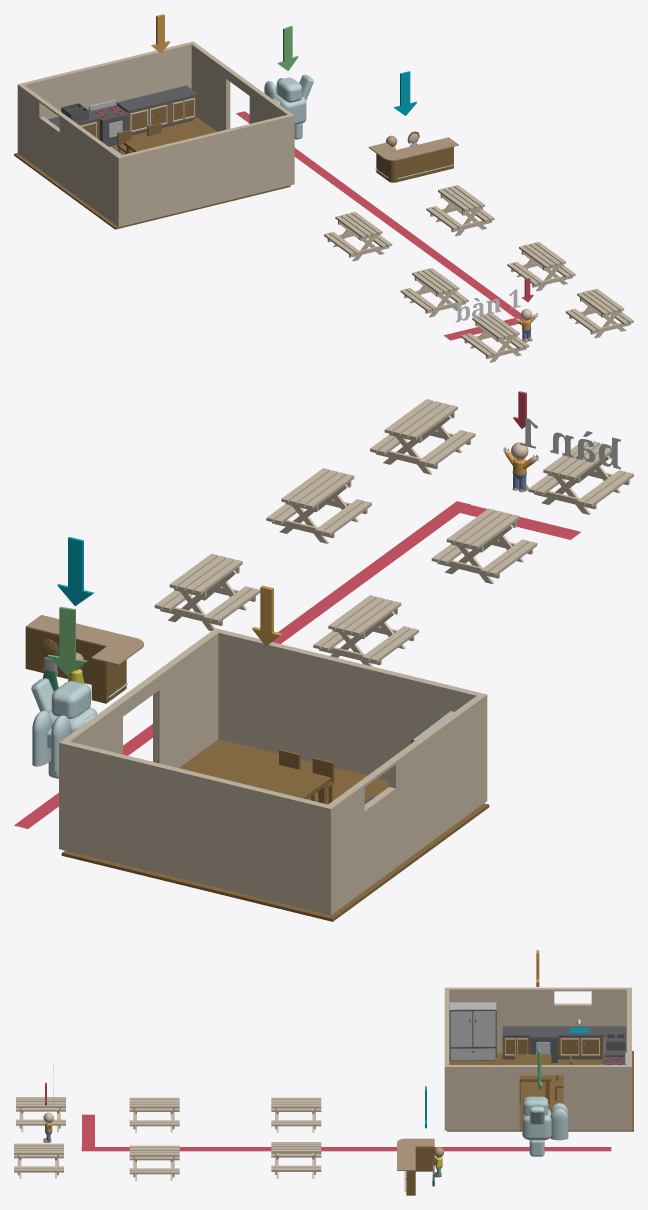
Rendered from map1.glb.
3 views of the same model, one above another, from view 1: azimuth 30°, elevation 25°; view 2: azimuth 150°, elevation 25°; view 3: azimuth 270°, elevation 25° (orthographic). The views are drawn at different scales.
Parts seen in each view (by area): view 1: Mesh_Mesh_head_geo.001_lambert2SG.001; view 2: Mesh_Mesh_head_geo.001_lambert2SG.001; view 3: Mesh_Mesh_head_geo.001_lambert2SG.001.
Boxes of the visible parts, box(x1,y1,x2,y2) form: Mesh_Mesh_head_geo.001_lambert2SG.001: box(14, 14, 633, 362); Mesh_Mesh_head_geo.001_lambert2SG.001: box(14, 391, 633, 921); Mesh_Mesh_head_geo.001_lambert2SG.001: box(14, 950, 633, 1195).
Size of the model in its own units: 0.3613 by 0.169 by 0.6629.
